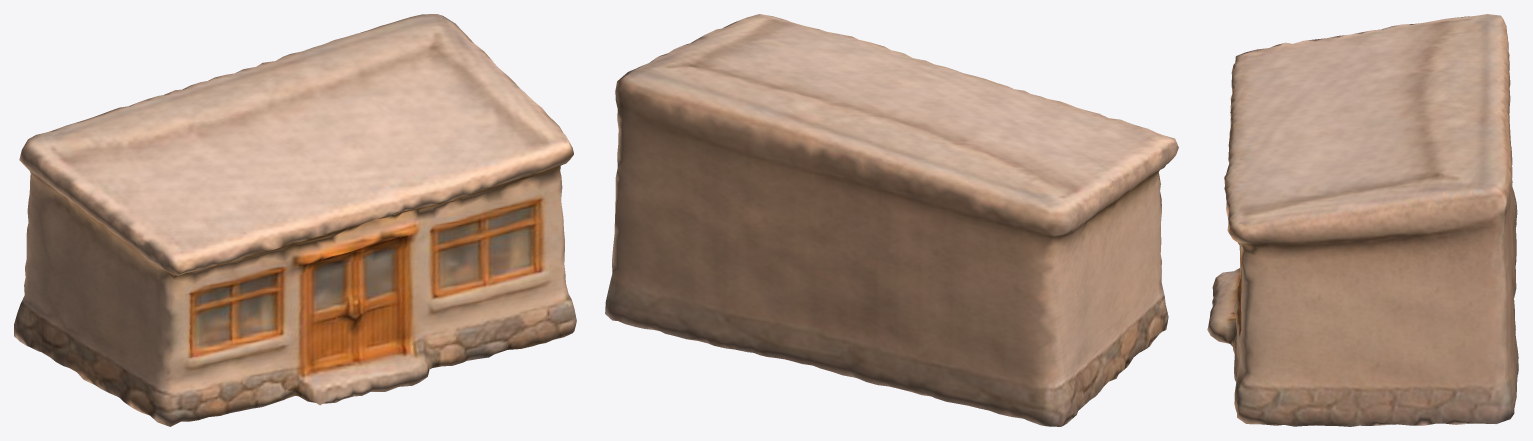
File: hall.glb
The picture shows the model from 3 angles, left to right: view 1: azimuth 30°, elevation 25°; view 2: azimuth 150°, elevation 25°; view 3: azimuth 270°, elevation 25°; orthographic projection. The views are drawn at different scales.
Parts seen in each view (by area): view 1: world; view 2: world; view 3: world.
Part boxes in pixels (left/top/right/bottom): world: left=14, top=14, right=576, bottom=426; world: left=605, top=14, right=1178, bottom=426; world: left=1207, top=14, right=1518, bottom=426.
Bounding box in the file's own units: 5.71 × 2.9 × 3.48.
Materials: 1 (1 with a texture image).
